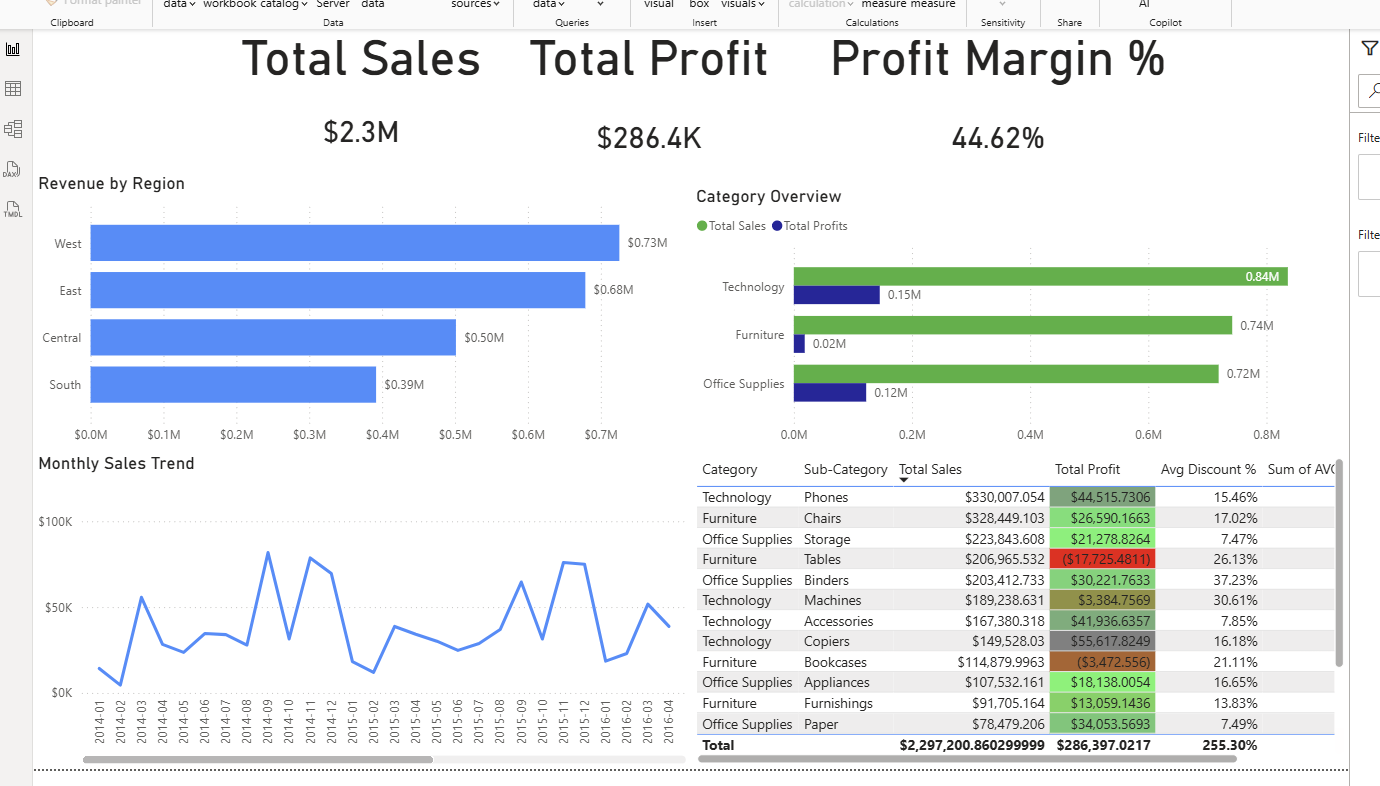

Layout of this report page (visuals, bound fields, positions):
{"tool":"powerbi","page":{"name":"Executive Overview","canvas":[1280,720],"ordinal":0},"visuals":[{"type":"card","title":"Total Sales","fields":{"Values":["Sum(REVENUE_BY_REGION.TOTAL_SALES)"]},"box":[179,0,280.1,140.1],"z":0},{"type":"card","title":"Total Profit","fields":{"Values":["Sum(REVENUE_BY_REGION.TOTAL_PROFIT)"]},"box":[459.1,0,280.1,152.7],"z":1},{"type":"card","title":"Profit Margin %","fields":{"Values":["Sum(REVENUE_BY_REGION.AVG_PROFIT_MARGIN_PCT)"]},"box":[739.2,0,398.8,152.7],"z":2},{"type":"clusteredBarChart","title":"Revenue by Region","fields":{"Category":["REVENUE_BY_REGION.REGION"],"Y":["Sum(REVENUE_BY_REGION.TOTAL_SALES)"]},"box":[0,140.1,640,272.3],"z":3},{"type":"lineChart","title":"Monthly Sales Trend","fields":{"Category":["MONTHLY_SALES_TREND.ORDER_YEAR_MONTH"],"Y":["Sum(MONTHLY_SALES_TREND.TOTAL_SALES)"]},"box":[0,412.4,640,307.4],"z":4},{"type":"clusteredBarChart","title":"Sales vs Profit by Category","fields":{"Category":["CATEGORY_PERFORMANCE.CATEGORY"],"Y":["Sum(CATEGORY_PERFORMANCE.TOTAL_SALES)","Sum(CATEGORY_PERFORMANCE.TOTAL_PROFIT)"]},"box":[640,152.7,640,259.7],"z":5},{"type":"tableEx","fields":{"Values":["CATEGORY_PERFORMANCE.CATEGORY","CATEGORY_PERFORMANCE.SUB_CATEGORY","Sum(CATEGORY_PERFORMANCE.TOTAL_SALES)","Sum(CATEGORY_PERFORMANCE.TOTAL_PROFIT)","Sum(CATEGORY_PERFORMANCE.AVG_DISCOUNT_PCT)","Sum(CATEGORY_PERFORMANCE.AVG_SHIPPING_DAYS)"]},"box":[640,412.4,640,307.4],"z":6}]}

Visuals, with their boxes on the page's 1280x720 design canvas (x1, y1, x2, y2). These are canvas units, not pixel positions in the 1380x786 screenshot, which may show the page scaled, cropped or inside an application window:
"Total Sales" card: 179,0,459,140
"Total Profit" card: 459,0,739,153
"Profit Margin %" card: 739,0,1138,153
"Revenue by Region" clusteredBarChart: 0,140,640,412
"Monthly Sales Trend" lineChart: 0,412,640,720
"Sales vs Profit by Category" clusteredBarChart: 640,153,1280,412
tableEx - CATEGORY_PERFORMANCE.CATEGORY x CATEGORY_PERFORMANCE.SUB_CATEGORY: 640,412,1280,720
